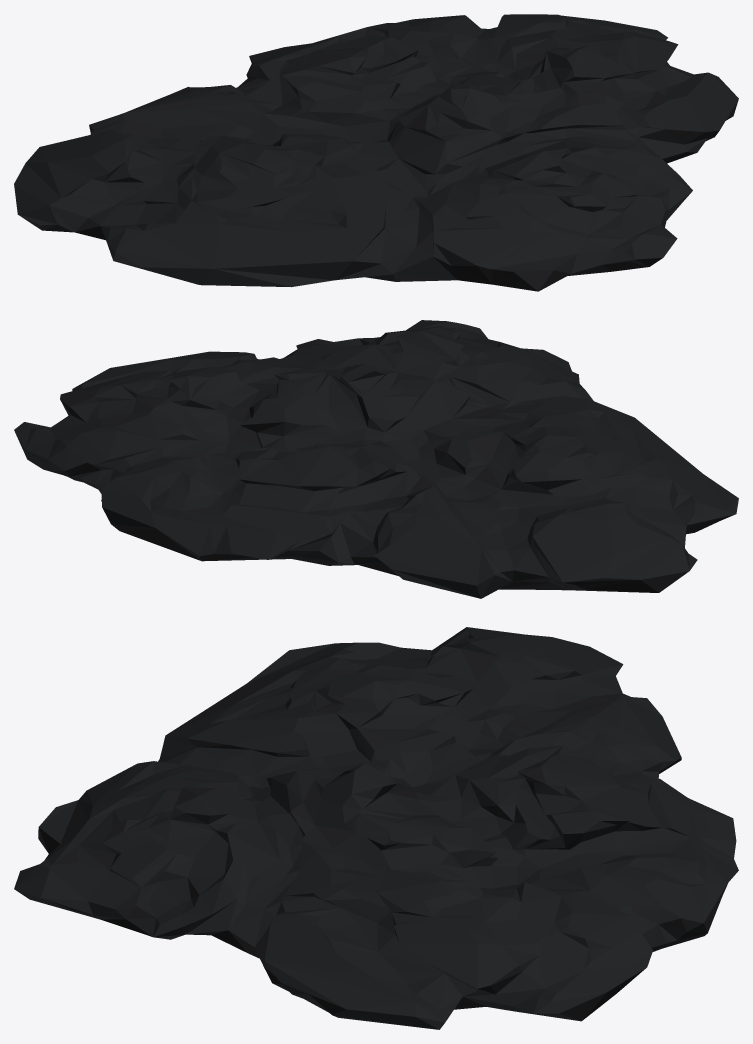
The model's file is pit_hell_ground.gltf.
3 renders of one model, top to bottom at view 1: azimuth 30°, elevation 25°; view 2: azimuth 150°, elevation 25°; view 3: azimuth 270°, elevation 25°, orthographic. The views are drawn at different scales.
Parts seen in each view (by area): view 1: pit_hell_ground; view 2: pit_hell_ground; view 3: pit_hell_ground.
Part boxes in pixels (<box>): pit_hell_ground: <box>14,14,738,291</box>; pit_hell_ground: <box>14,320,738,598</box>; pit_hell_ground: <box>14,627,738,1029</box>.
Size of the model in its own units: 27.95 by 3.67 by 22.25.
1 material, 1 textured.
